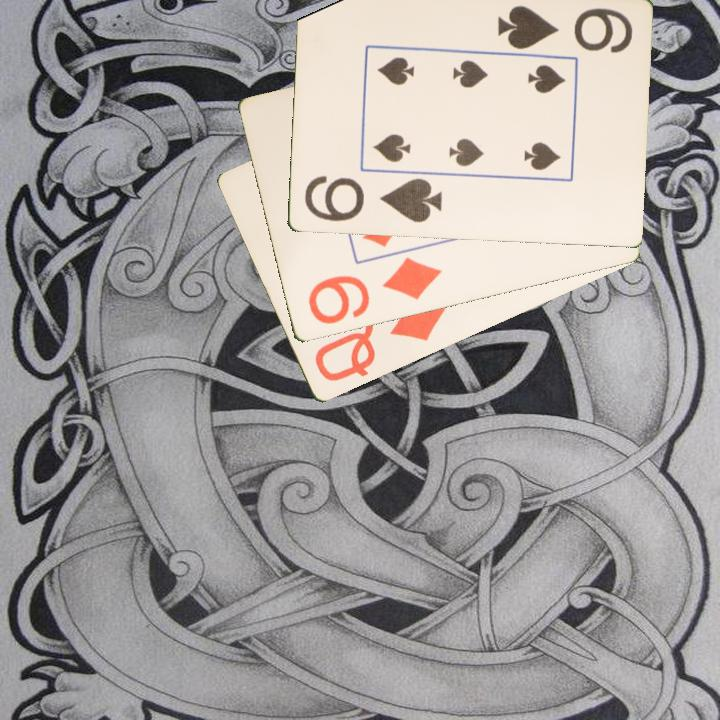6s: (493, 2, 635, 57), (300, 173, 444, 226)
9d: (304, 254, 445, 328)
Qd: (310, 297, 449, 385)
